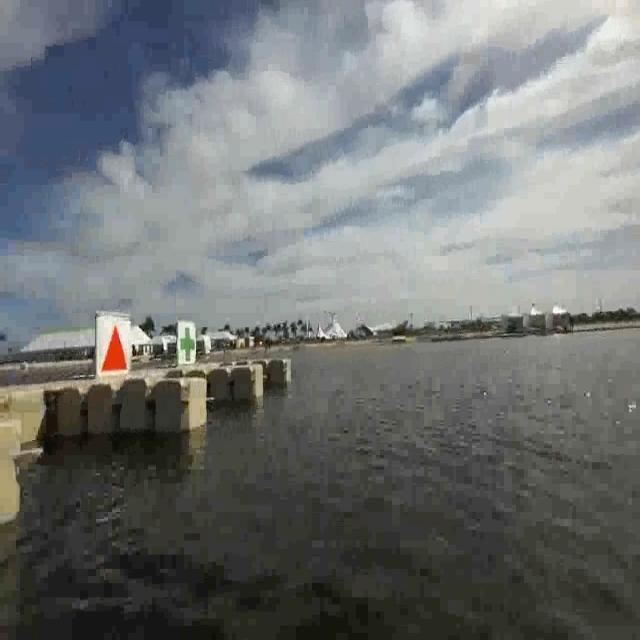blue-cross: (178, 322, 197, 369)
red-dot: (96, 314, 129, 378)
